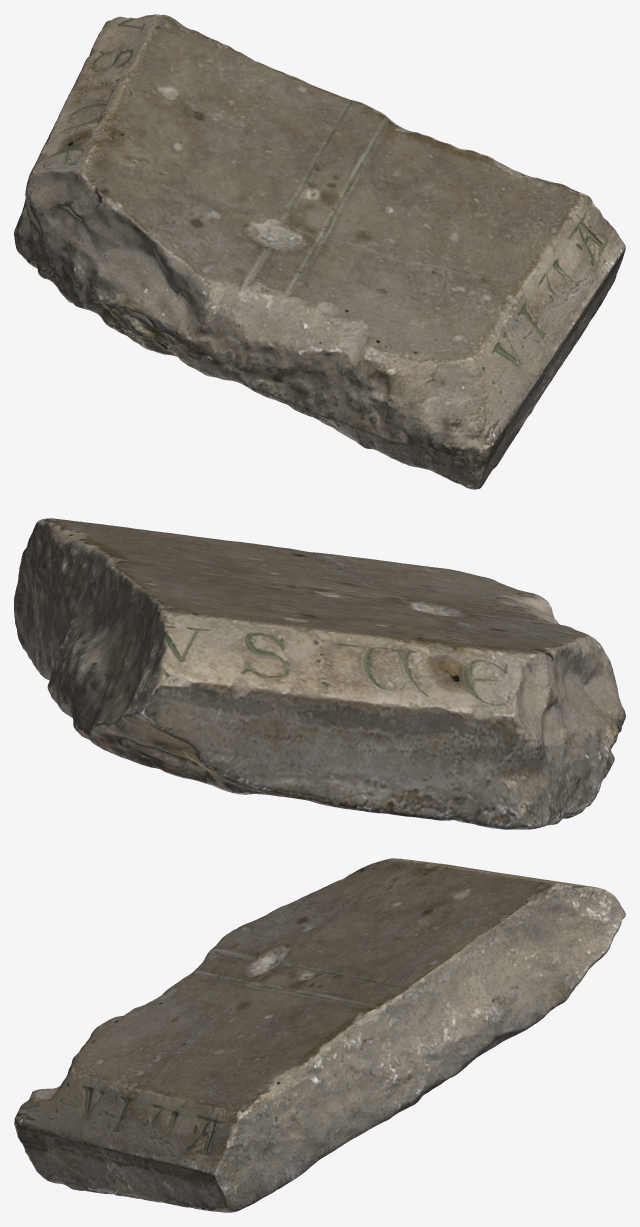
Rendered from Tombstone5.glb.
3 renders of one model, top to bottom at view 1: azimuth 30°, elevation 25°; view 2: azimuth 150°, elevation 25°; view 3: azimuth 270°, elevation 25°, orthographic. The views are drawn at different scales.
Visible parts, largest first — view 1: object; view 2: object; view 3: object.
Boxes of the visible parts, x1=… form: object: x1=14, y1=14, x2=625, y2=489; object: x1=14, y1=518, x2=625, y2=829; object: x1=14, y1=858, x2=625, y2=1212.
Size of the model in its own units: 454 by 258 by 523.
1 material, 1 textured.
